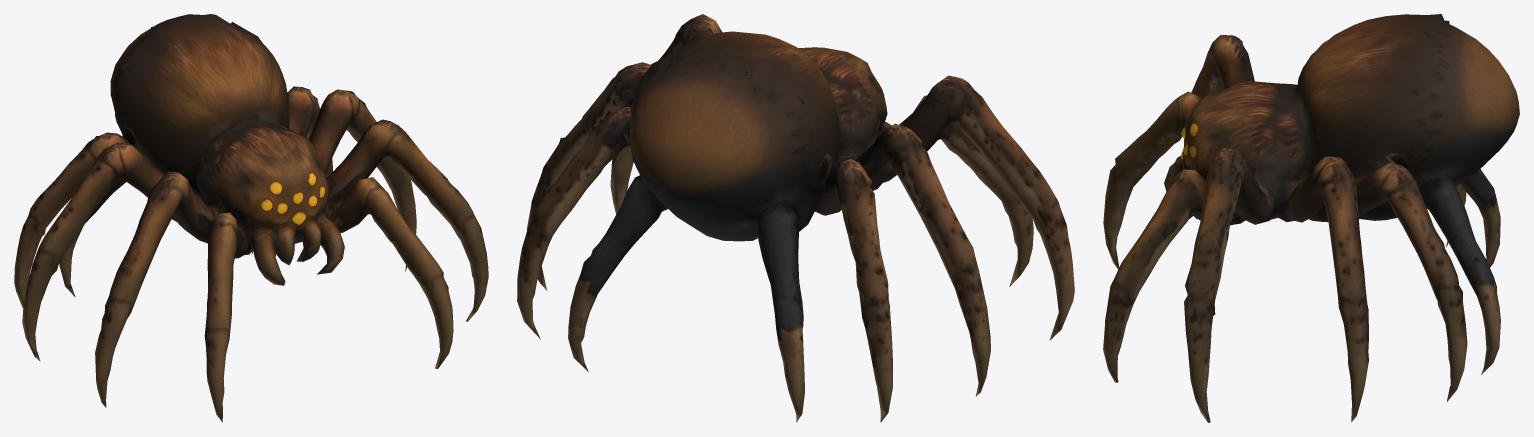
The model's file is Anansi.glb.
3 renders of one model, left to right at view 1: azimuth 30°, elevation 25°; view 2: azimuth 150°, elevation 25°; view 3: azimuth 270°, elevation 25°, orthographic. The views are drawn at different scales.
Visible parts, largest first — view 1: Mesh1.0; view 2: Mesh1.0; view 3: Mesh1.0.
Boxes of the visible parts, left/top/right/bottom form: Mesh1.0: left=14, top=14, right=488, bottom=422; Mesh1.0: left=517, top=14, right=1074, bottom=422; Mesh1.0: left=1103, top=14, right=1519, bottom=422.
Size of the model in its own units: 2.01 by 1.36 by 1.68.
1 material, 1 textured.
